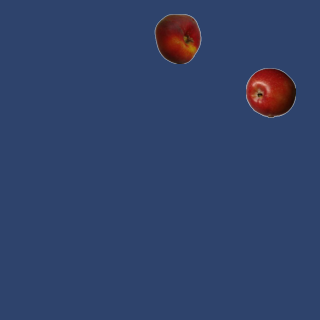Apple Braeburn: (245, 67, 295, 117)
Nectarine Flat: (152, 13, 202, 63)
